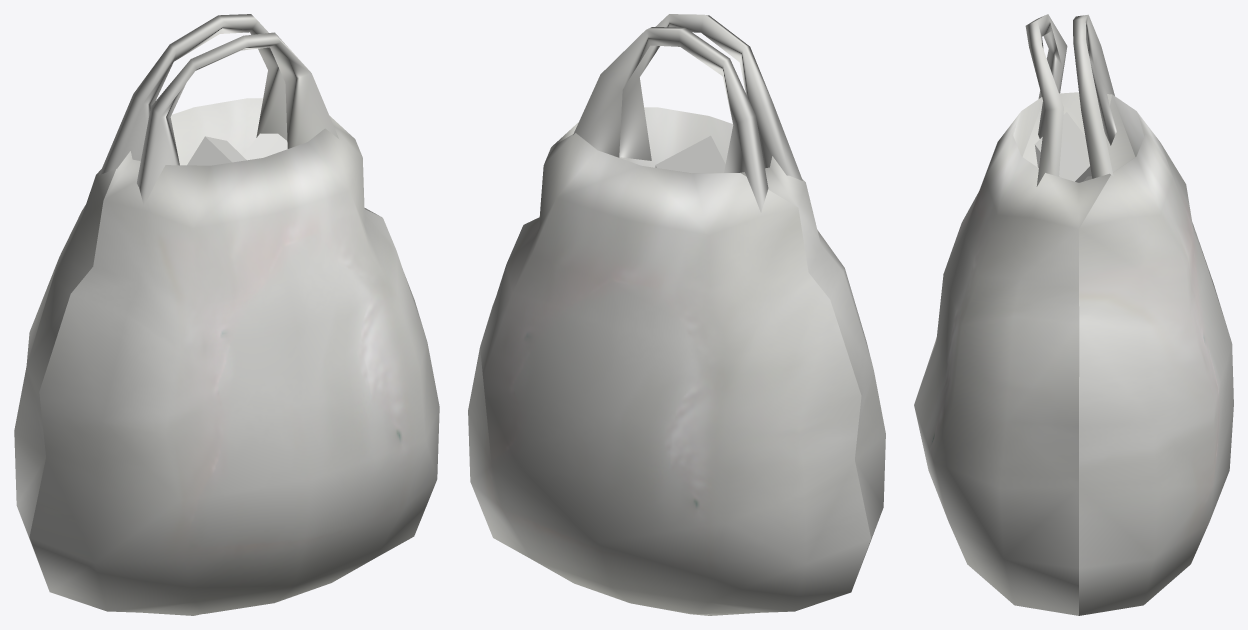
The model's file is sumka.FBX.
3 renders of one model, left to right at view 1: azimuth 30°, elevation 25°; view 2: azimuth 150°, elevation 25°; view 3: azimuth 270°, elevation 25°, orthographic. The views are drawn at different scales.
Visible parts, largest first — view 1: sumka; view 2: sumka; view 3: sumka.
Boxes of the visible parts, x1,y1,x2,y2 form: sumka: [14, 14, 439, 615]; sumka: [468, 14, 885, 615]; sumka: [914, 14, 1233, 615].
Bounding box in the file's own units: 7.25 × 10.15 × 5.29.
